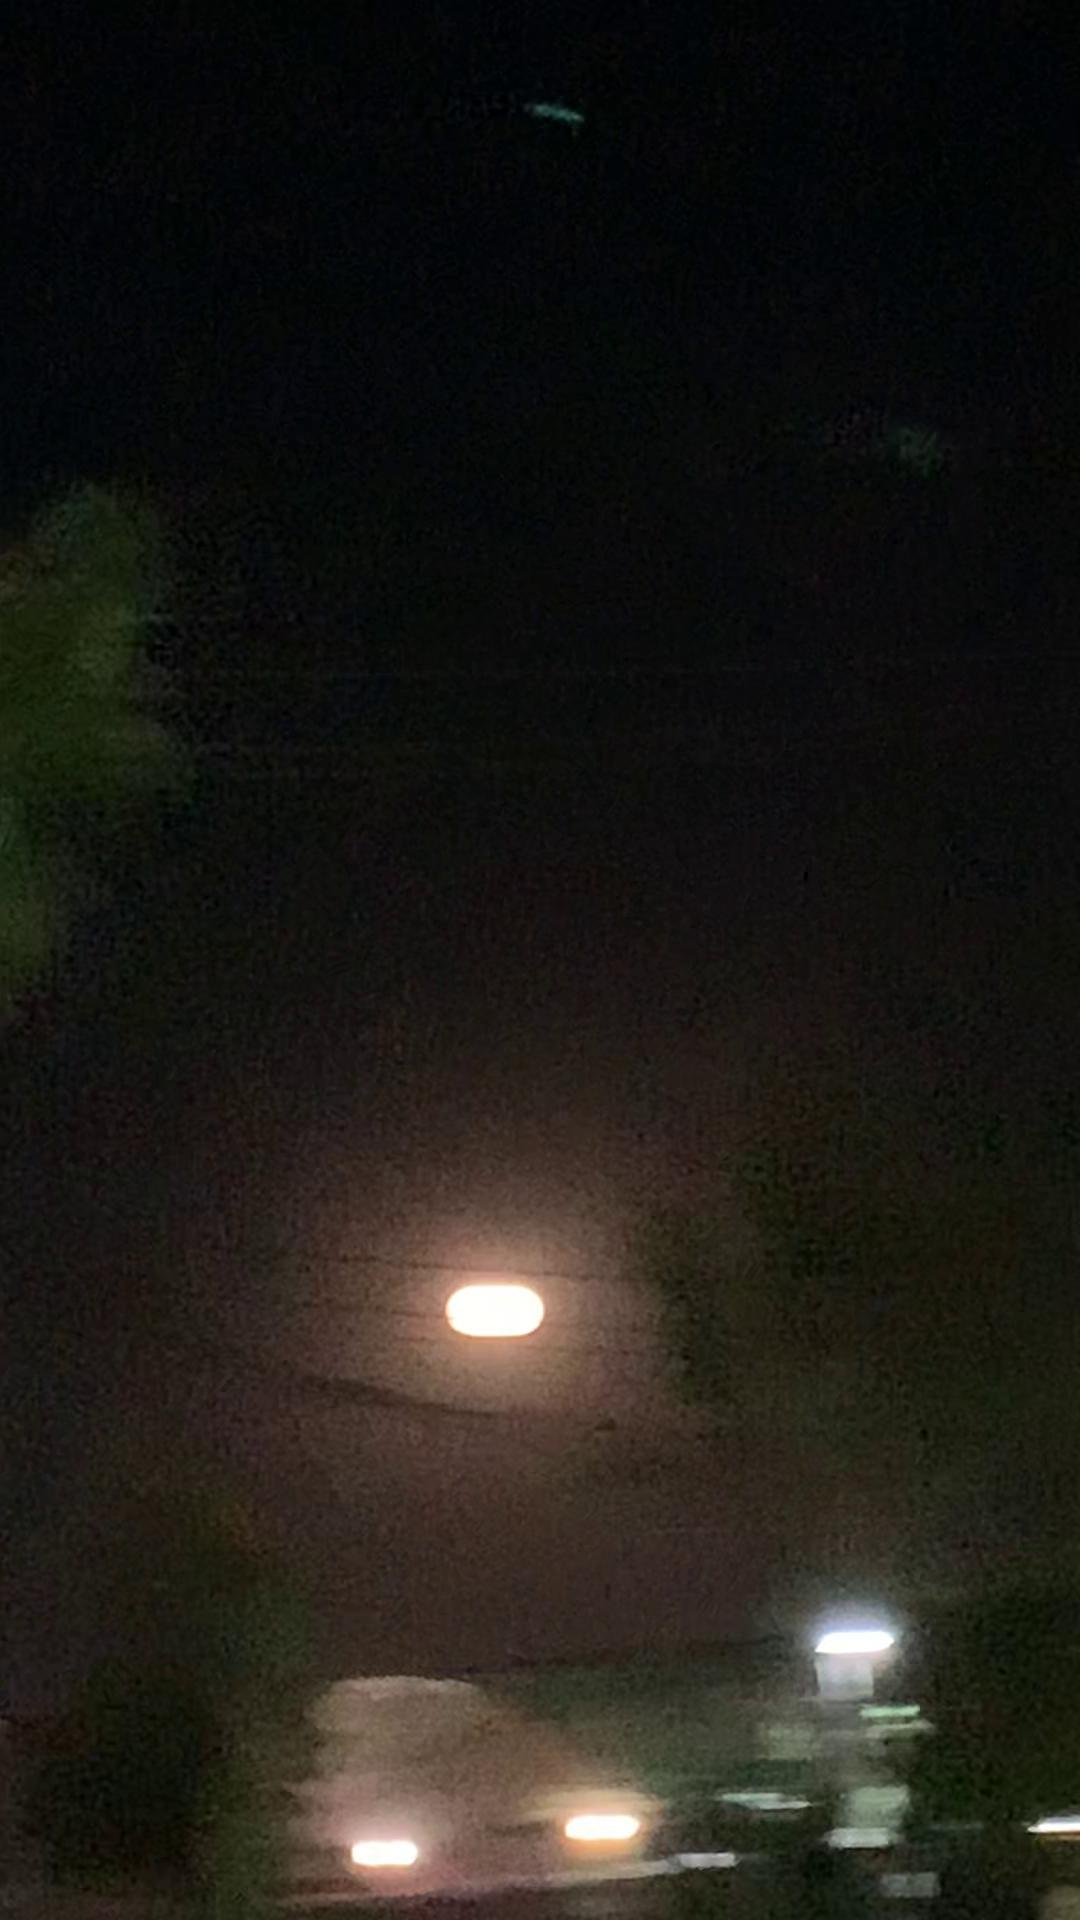moon: (444, 1261, 543, 1342)
